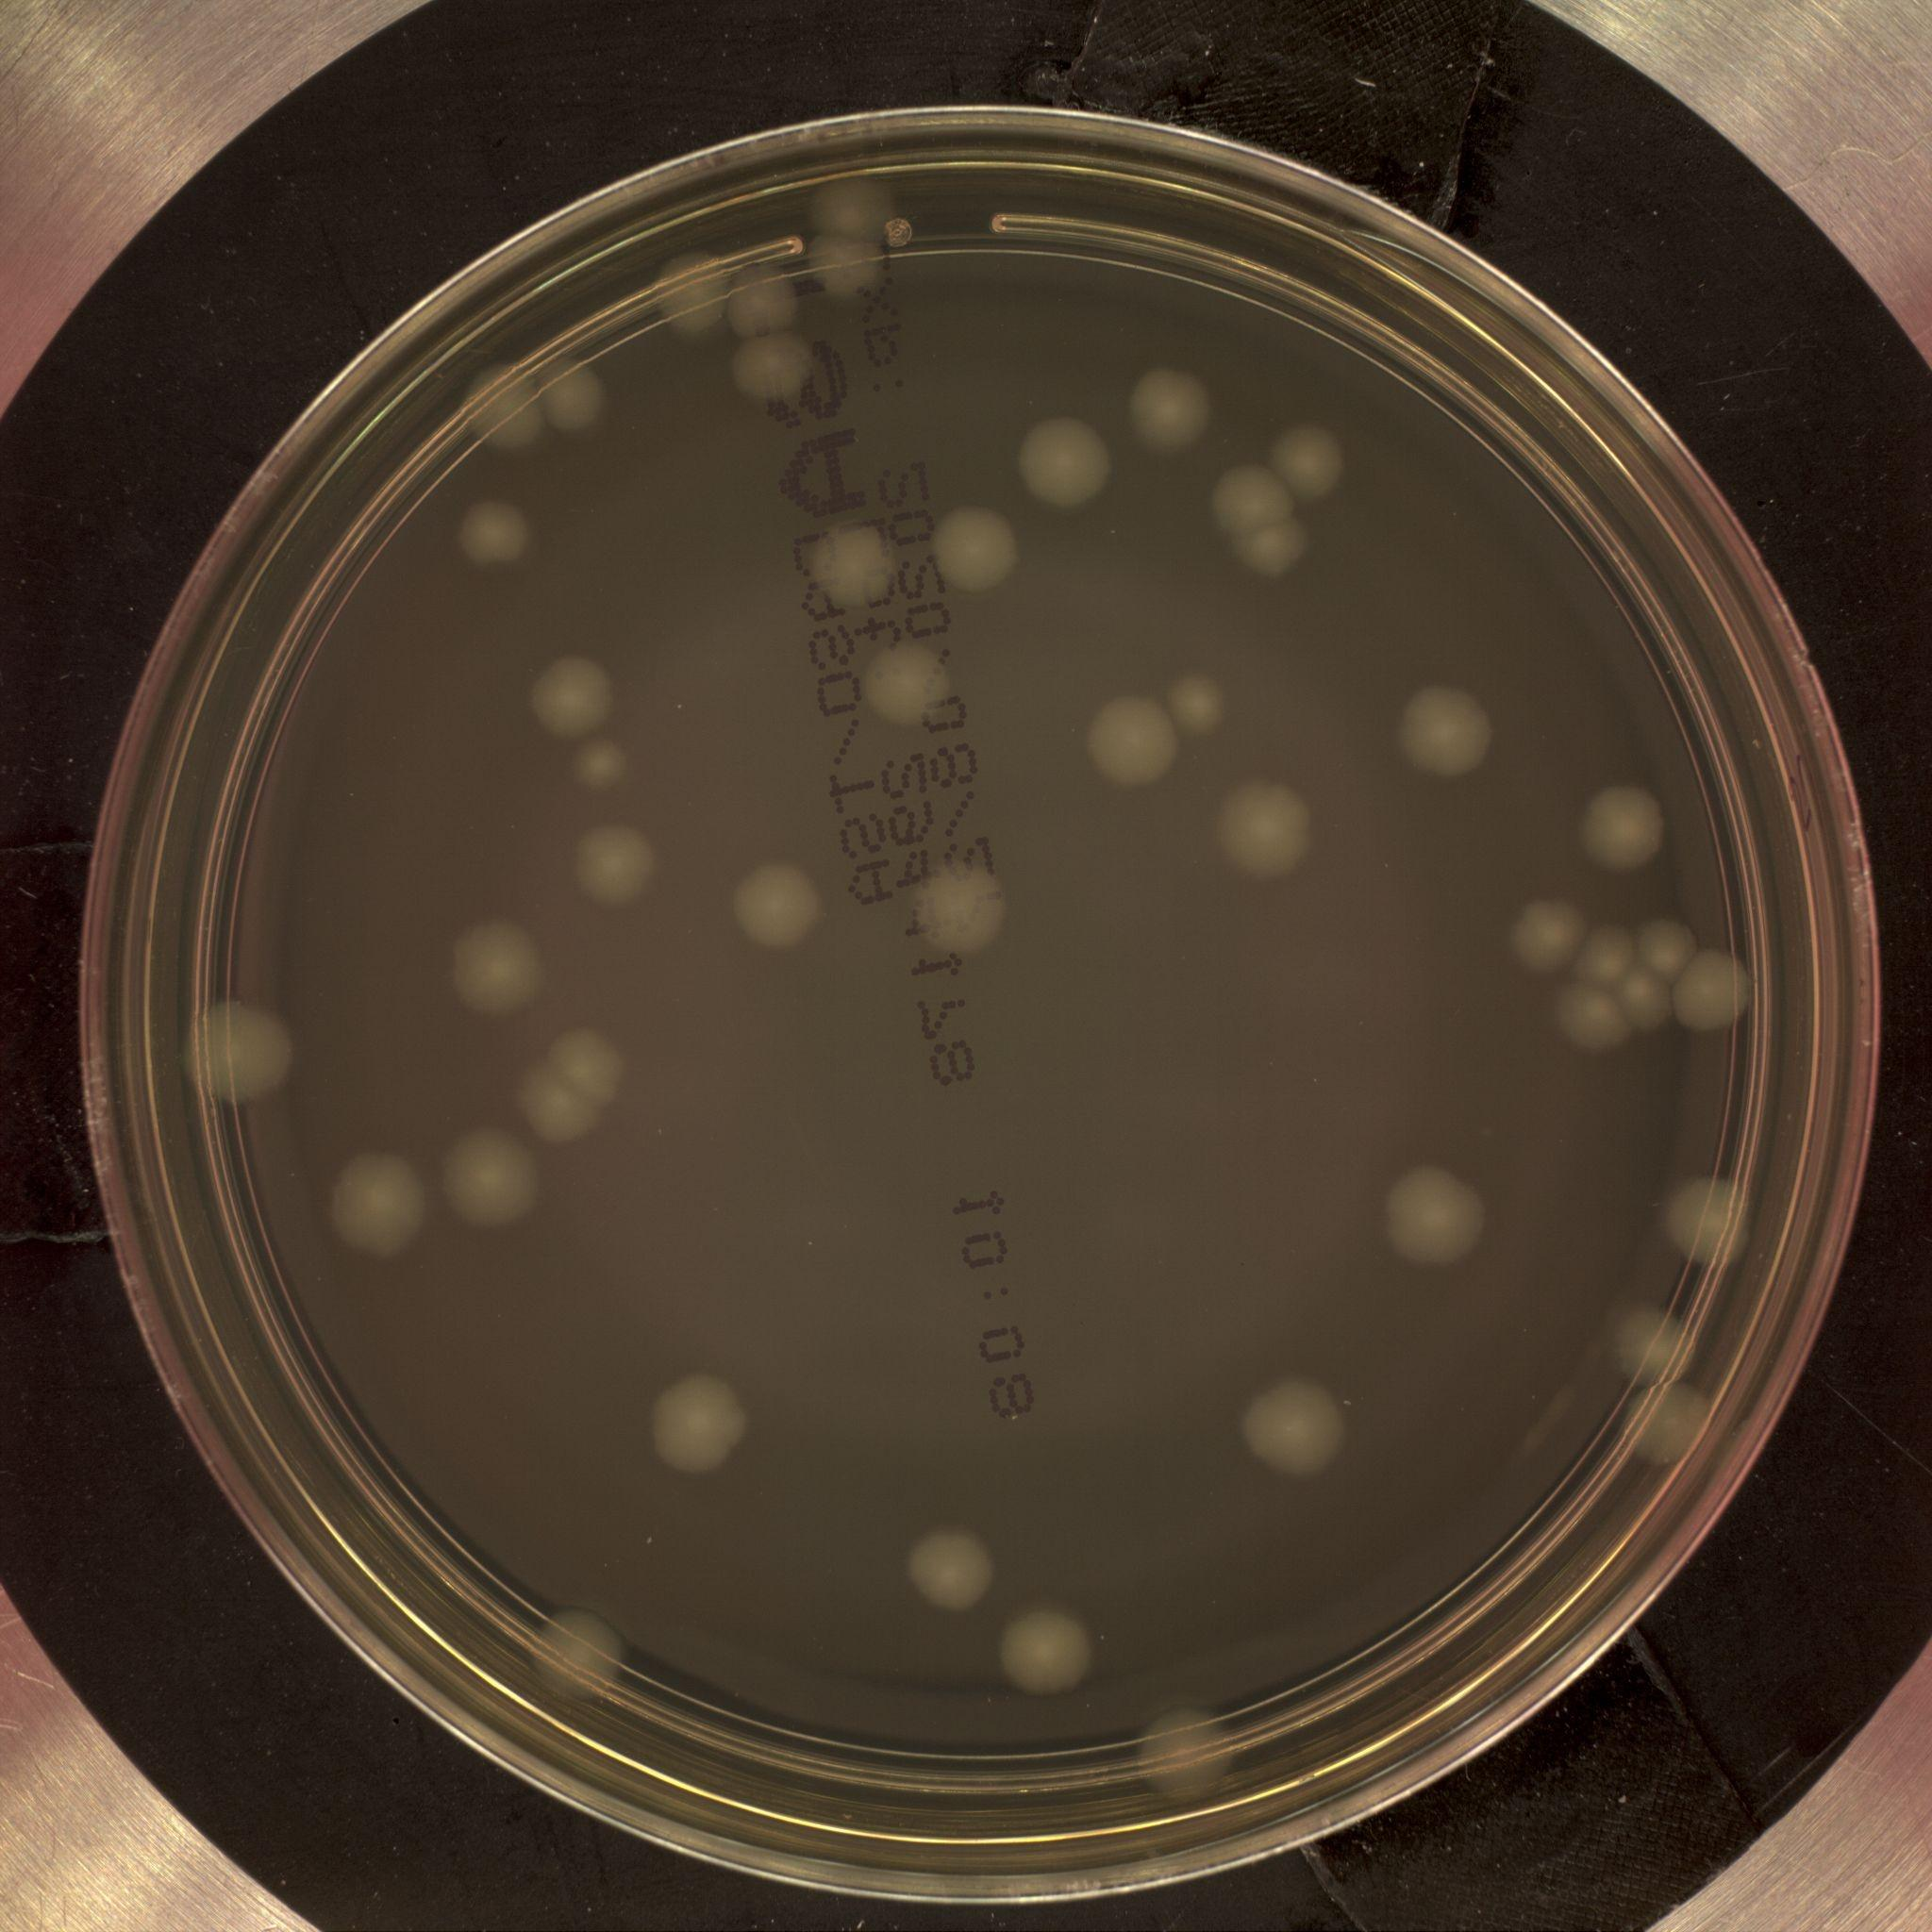e. coli: (317, 1146, 435, 1257), (1375, 1160, 1495, 1259), (192, 995, 293, 1111), (1232, 1379, 1358, 1472), (441, 1123, 543, 1234), (1583, 769, 1675, 885), (525, 1030, 621, 1140), (644, 1375, 756, 1470), (1135, 1707, 1234, 1809), (517, 1604, 625, 1696), (1661, 1170, 1757, 1272), (1399, 687, 1498, 783), (449, 923, 550, 1017), (995, 1604, 1092, 1700), (1217, 781, 1314, 875), (913, 858, 1008, 955), (734, 857, 826, 953), (1085, 696, 1182, 788), (1017, 420, 1114, 508), (808, 517, 899, 608), (1130, 363, 1223, 451), (934, 500, 1020, 594), (861, 630, 946, 724), (1674, 951, 1765, 1038), (911, 1526, 995, 1618), (451, 360, 541, 443), (1512, 894, 1590, 989), (814, 175, 906, 253), (1611, 1294, 1689, 1387), (1627, 1385, 1713, 1467), (531, 349, 614, 432), (647, 255, 727, 340), (812, 228, 894, 309), (572, 821, 652, 904), (541, 651, 614, 741), (1170, 656, 1241, 743), (1210, 464, 1291, 542), (734, 330, 817, 401), (1283, 410, 1347, 502), (718, 264, 805, 328), (1559, 983, 1632, 1052), (1239, 524, 1314, 590), (468, 495, 531, 566), (1616, 967, 1675, 1040), (1564, 924, 1641, 976), (572, 736, 628, 797), (1637, 920, 1701, 972)
